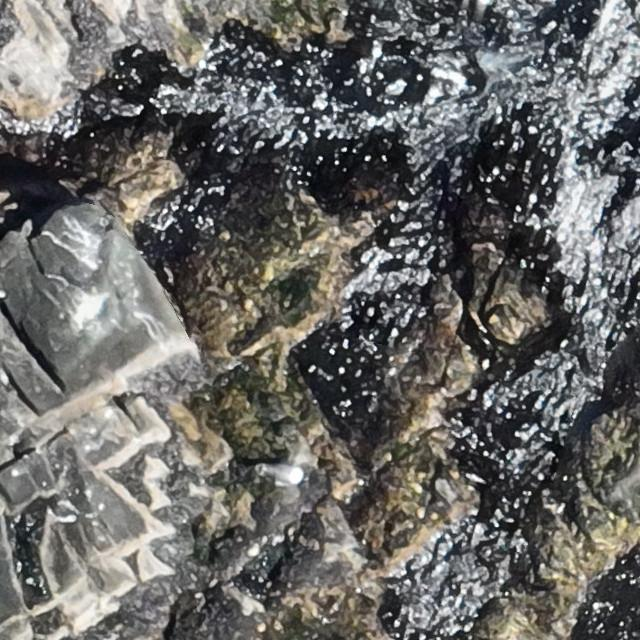umineko: (265, 464, 304, 483)
